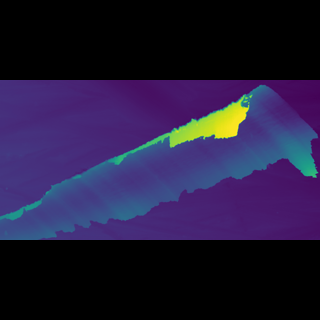Loch: (2, 121, 318, 201)
